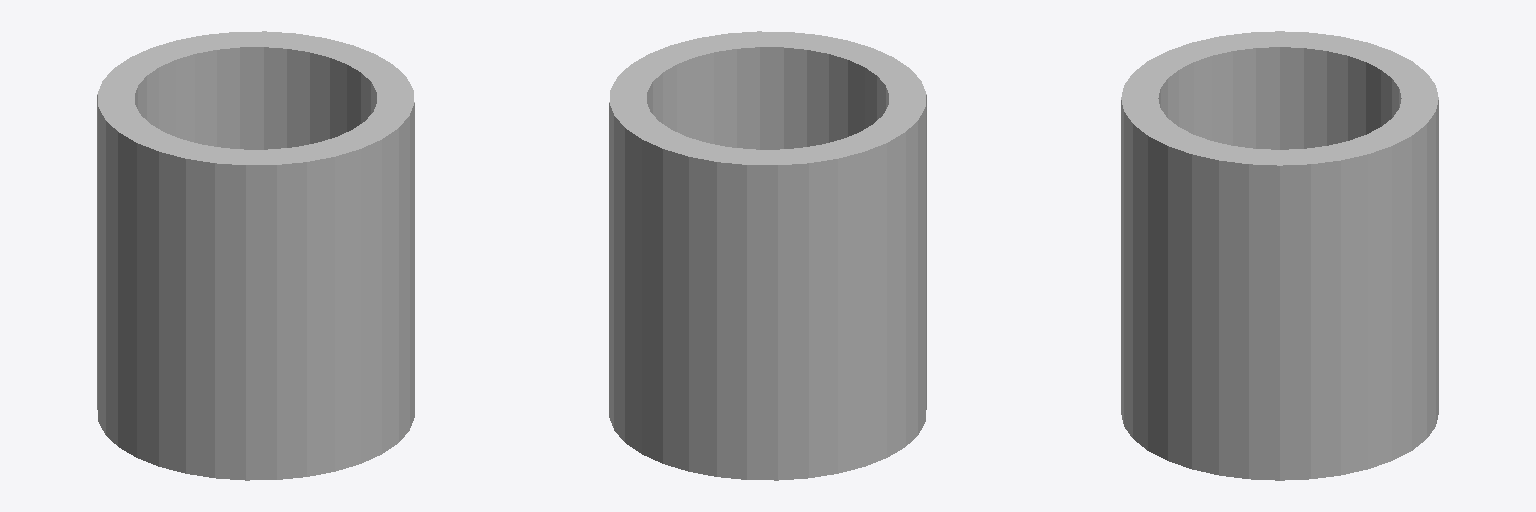
The model's file is goal.obj.
3 renders of one model, left to right at view 1: azimuth 30°, elevation 25°; view 2: azimuth 150°, elevation 25°; view 3: azimuth 270°, elevation 25°, orthographic.
Visible parts, largest first — view 1: Cylinder; view 2: Cylinder; view 3: Cylinder.
Part boxes in pixels (bbox=[...]): Cylinder: bbox=[97, 31, 414, 480]; Cylinder: bbox=[609, 31, 926, 480]; Cylinder: bbox=[1121, 31, 1438, 480].
Bounding box in the file's own units: 4.57 × 5 × 4.57.